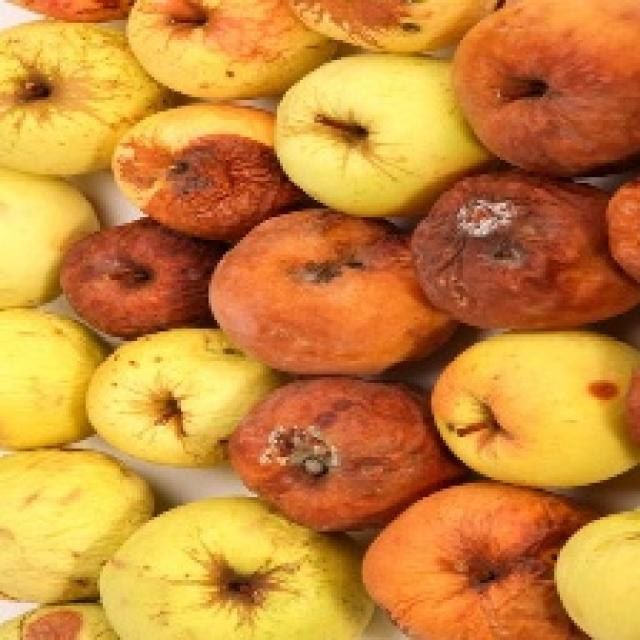rotten_apple: (211, 214, 429, 366), (418, 177, 615, 323), (374, 489, 566, 637), (461, 10, 634, 164), (241, 382, 416, 514), (116, 106, 284, 220), (132, 0, 296, 95), (68, 225, 195, 333)
